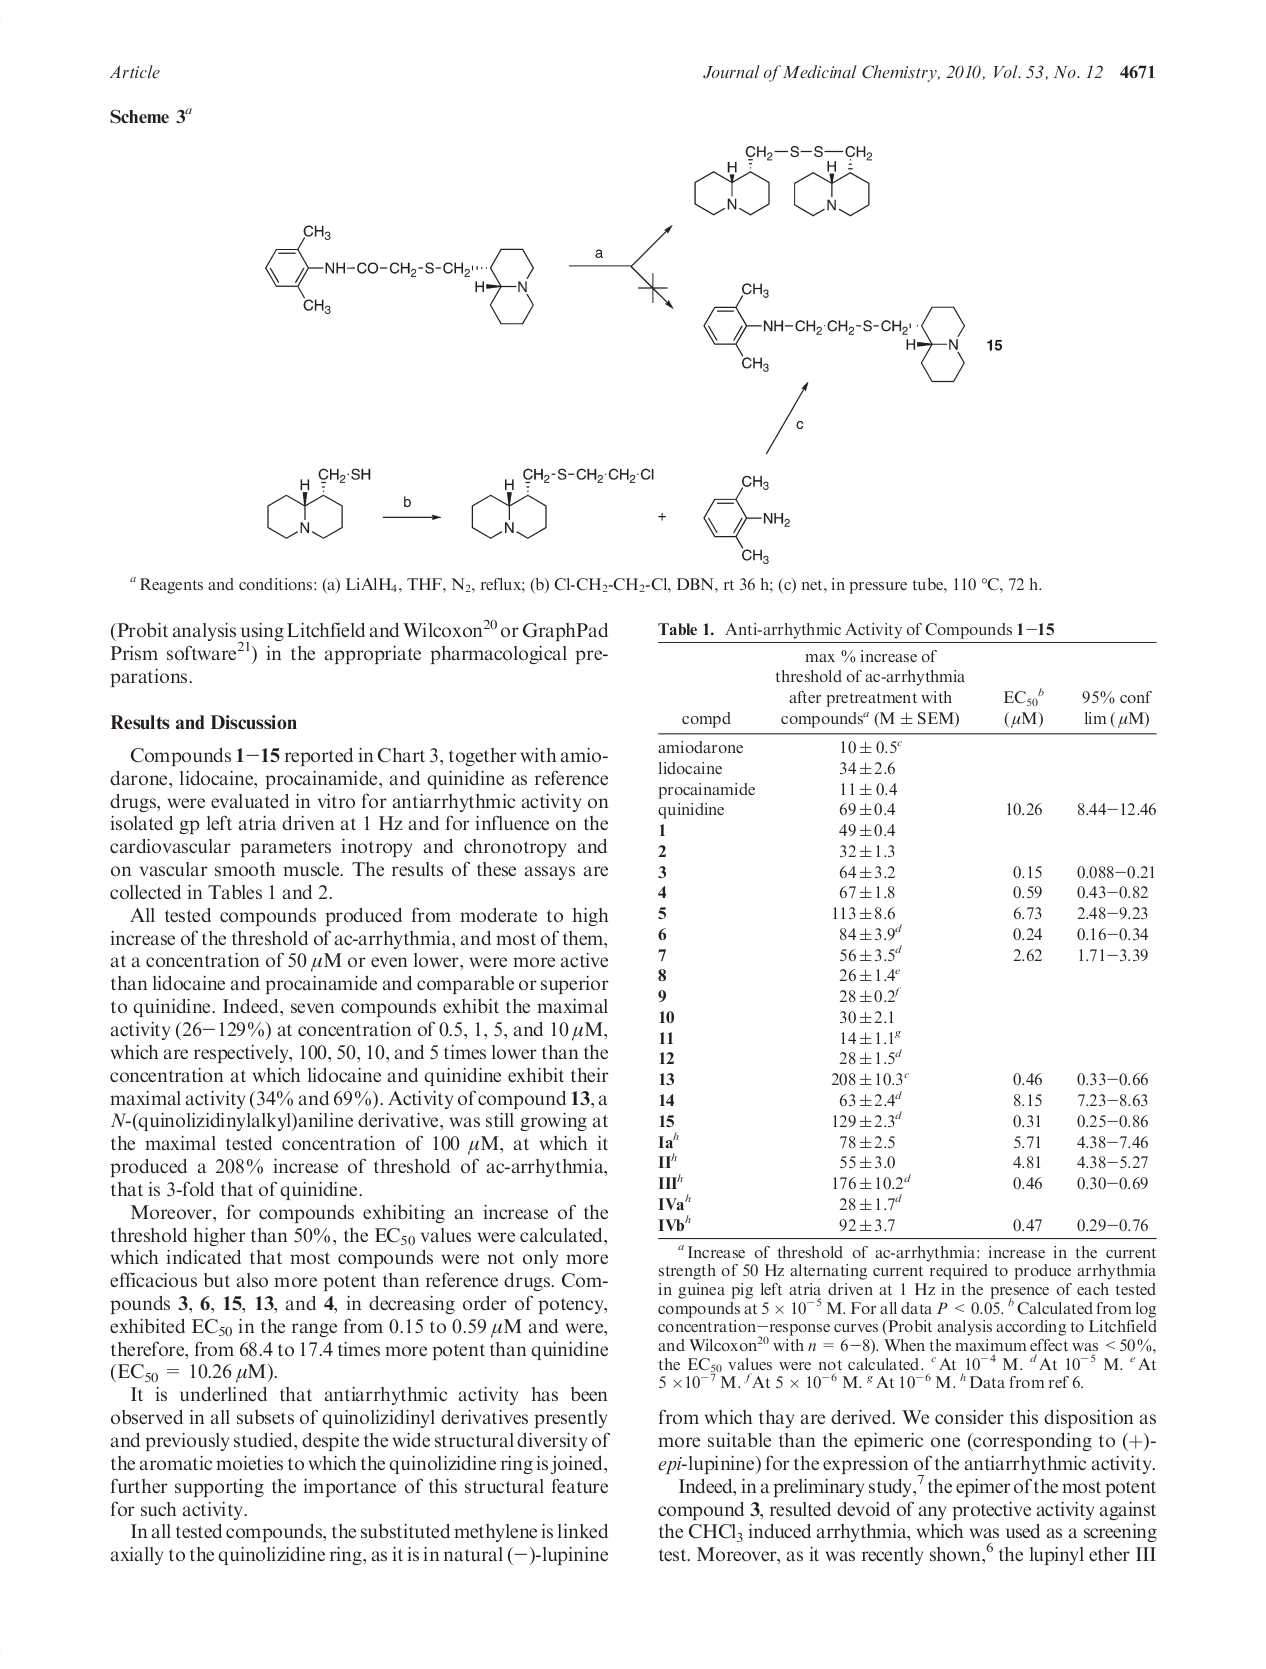exist_molecular: (262, 223, 536, 324), (703, 281, 965, 383), (468, 465, 660, 540), (693, 144, 874, 218), (266, 463, 372, 539), (703, 472, 791, 564)
